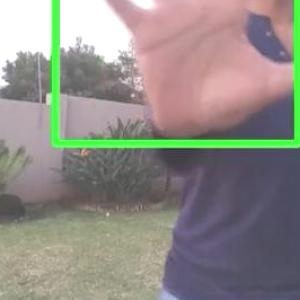follow_hand: (74, 0, 299, 145)
